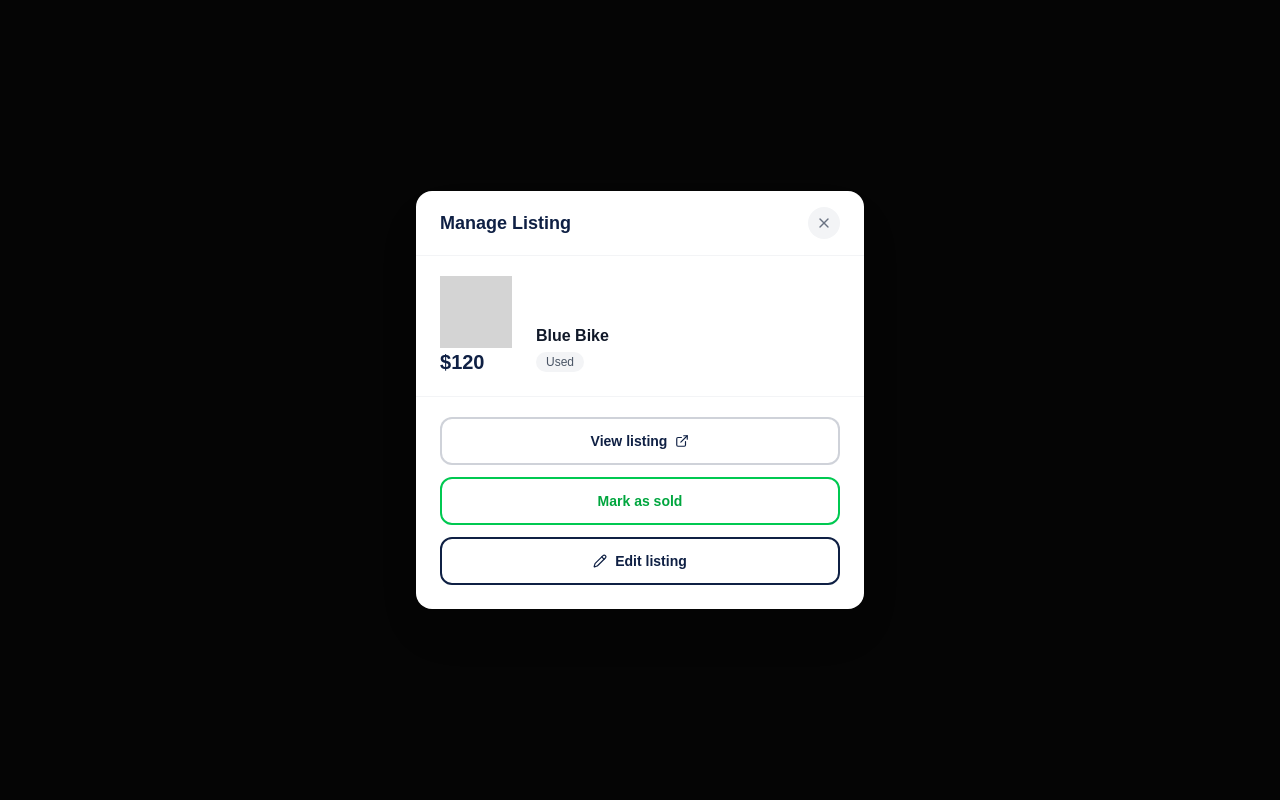
ListingManageModal › selecting a suggestion updates the input and confirm button label
The image size is (1280, 800).
Click the button "Mark as sold".
click(640, 501)  # box [440,477,840,525]
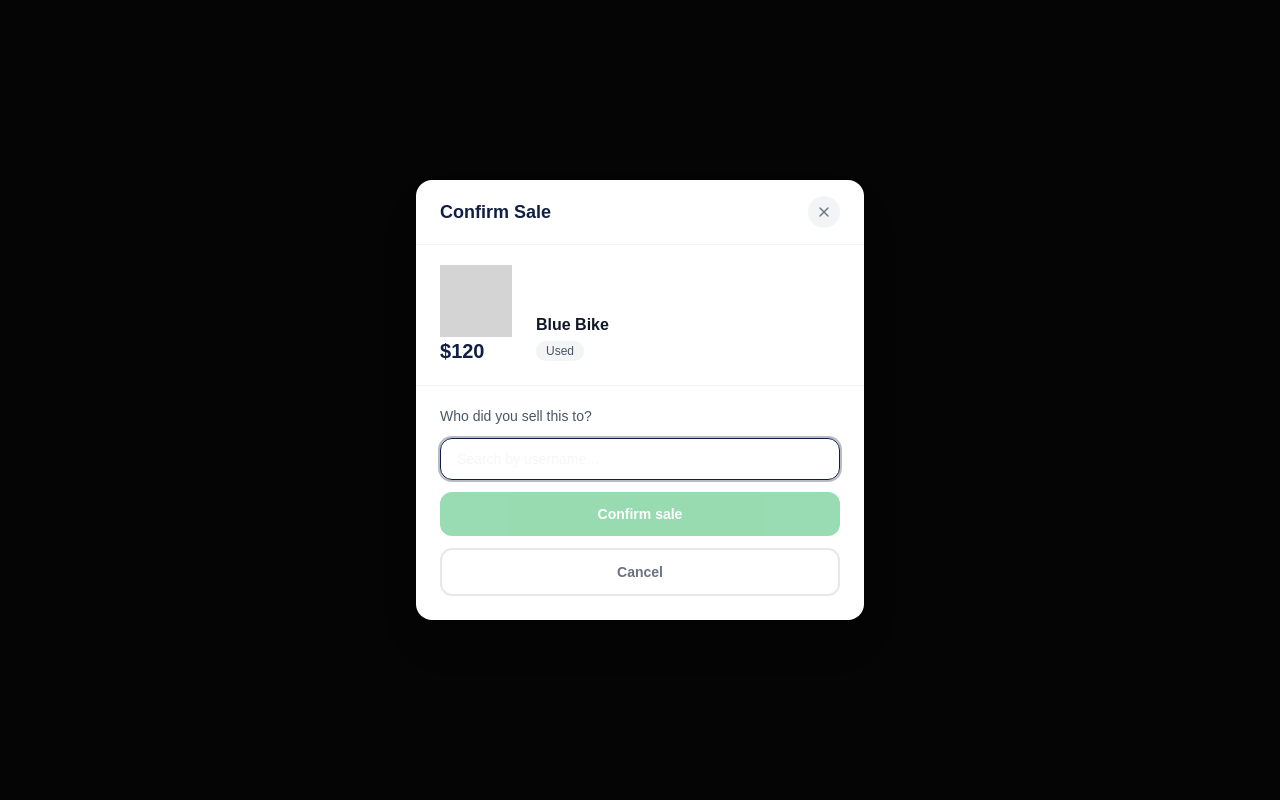
Type "jane" into the field with placeholder "Search by username…".
click(640, 459); type("jane")  # box [440,438,840,480]
Wait 250 ms
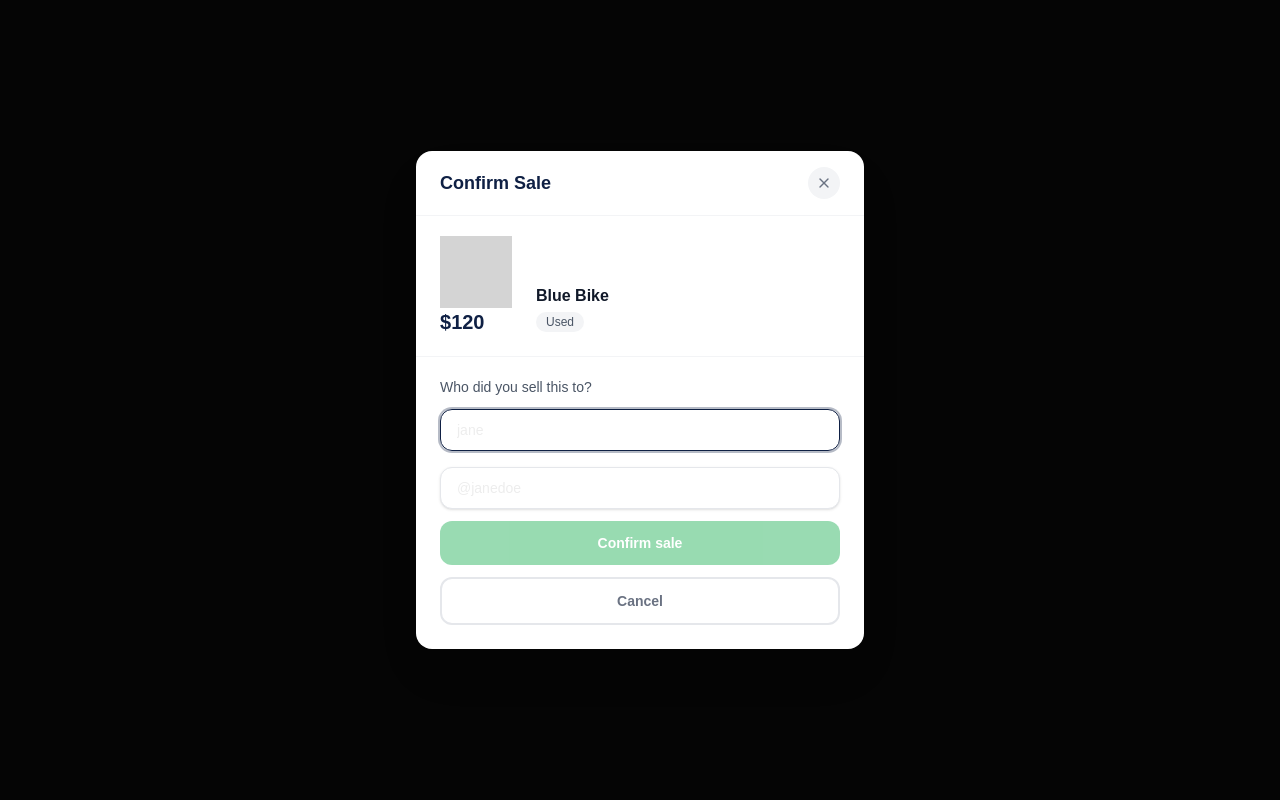
Press the mouse on the button "@janedoe" at (496, 488), box [441,468,839,508]
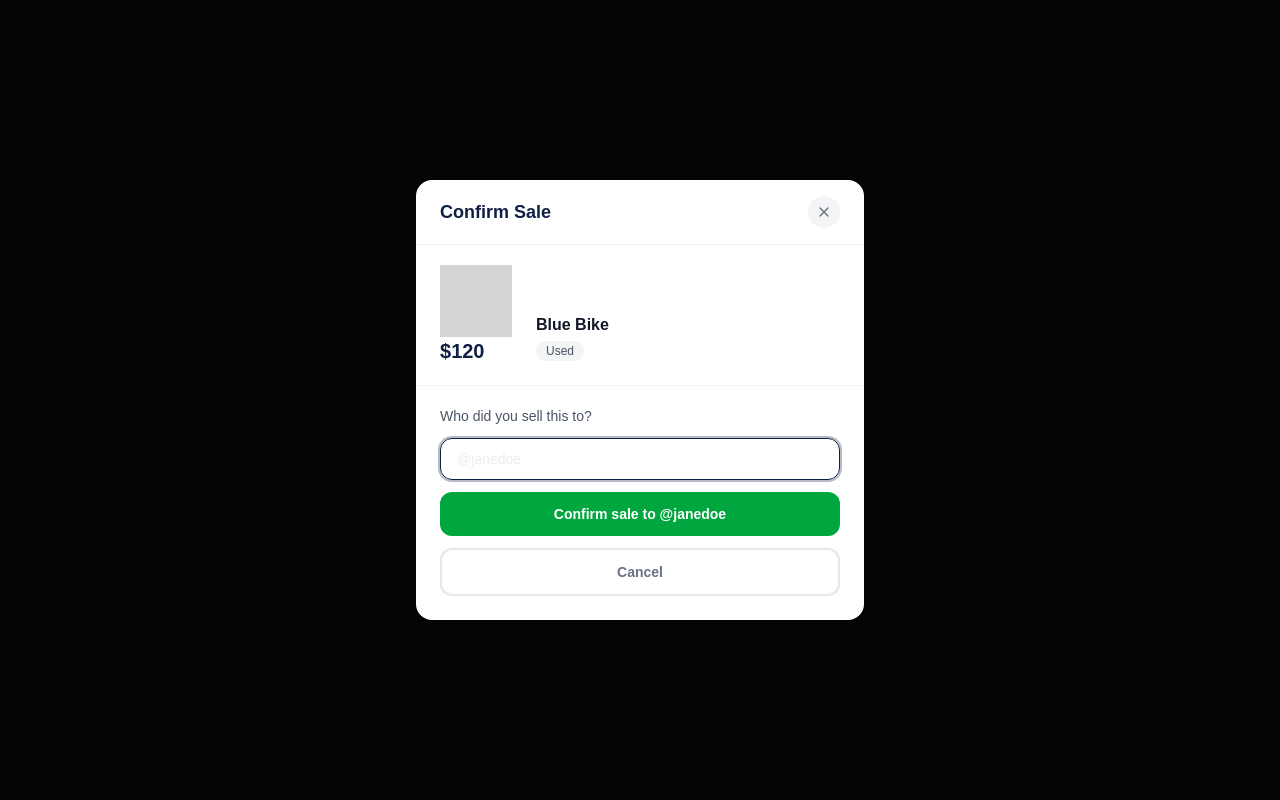
Check: the field with placeholder "Search by username…" holds "@janedoe", box [440,438,840,480]
Check: the button "Confirm sale to @janedoe" is shown, box [440,492,840,536]
